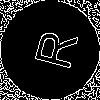R: (25, 25, 78, 72)
